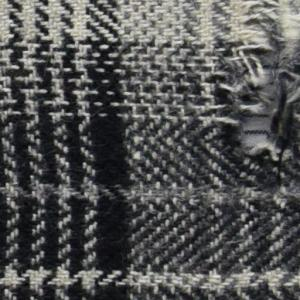Damage: (199, 1, 300, 218)
